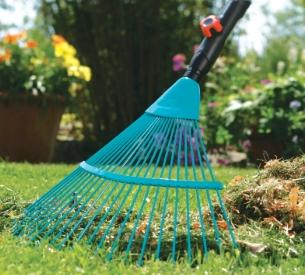RATEAU: (0, 3, 267, 275)
